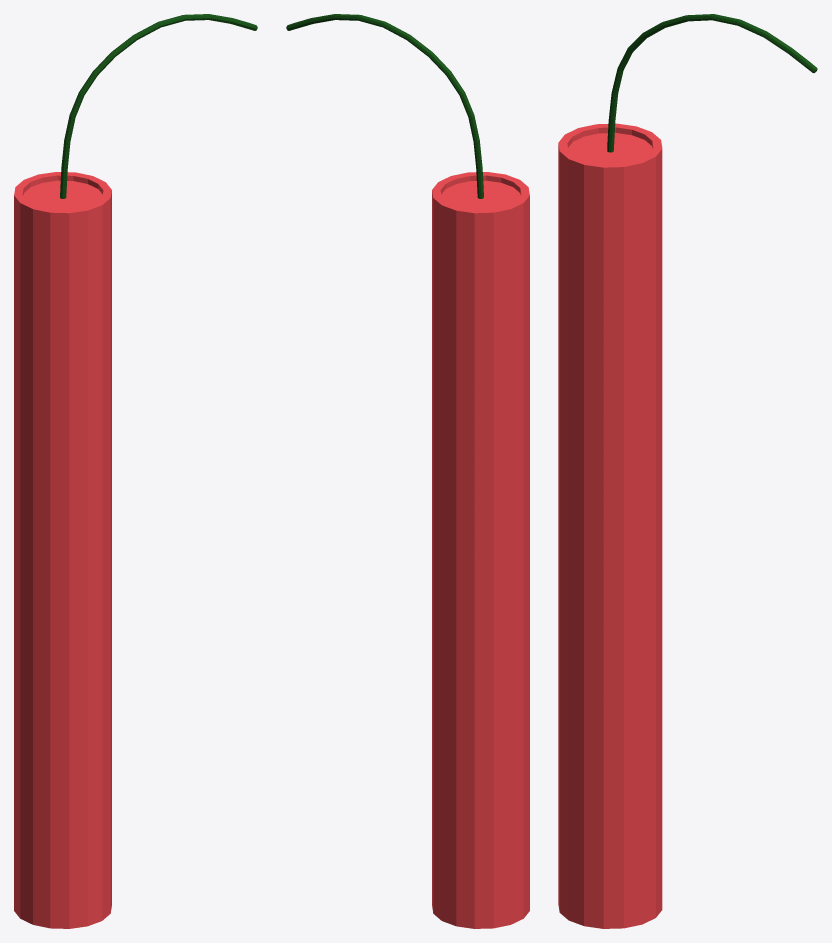
Rendered from TNT.FBX.
3 views of the same model, side by side, from view 1: azimuth 30°, elevation 25°; view 2: azimuth 150°, elevation 25°; view 3: azimuth 330°, elevation 25° (orthographic). The views are drawn at different scales.
Parts seen in each view (by area): view 1: TNT, Fuse; view 2: TNT, Fuse; view 3: TNT, Fuse.
Boxes of the visible parts, left/top/right/bottom form: TNT: left=14, top=172, right=111, bottom=928; Fuse: left=60, top=14, right=257, bottom=198; TNT: left=432, top=172, right=529, bottom=928; Fuse: left=286, top=14, right=483, bottom=198; TNT: left=558, top=123, right=662, bottom=928; Fuse: left=607, top=14, right=817, bottom=152.
Size of the model in its own units: 7.04 by 24.52 by 2.54.
